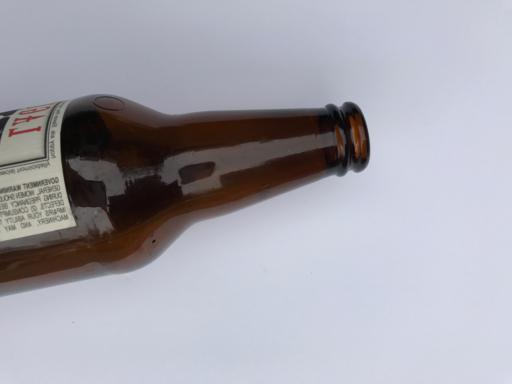glass: (1, 94, 372, 304)
